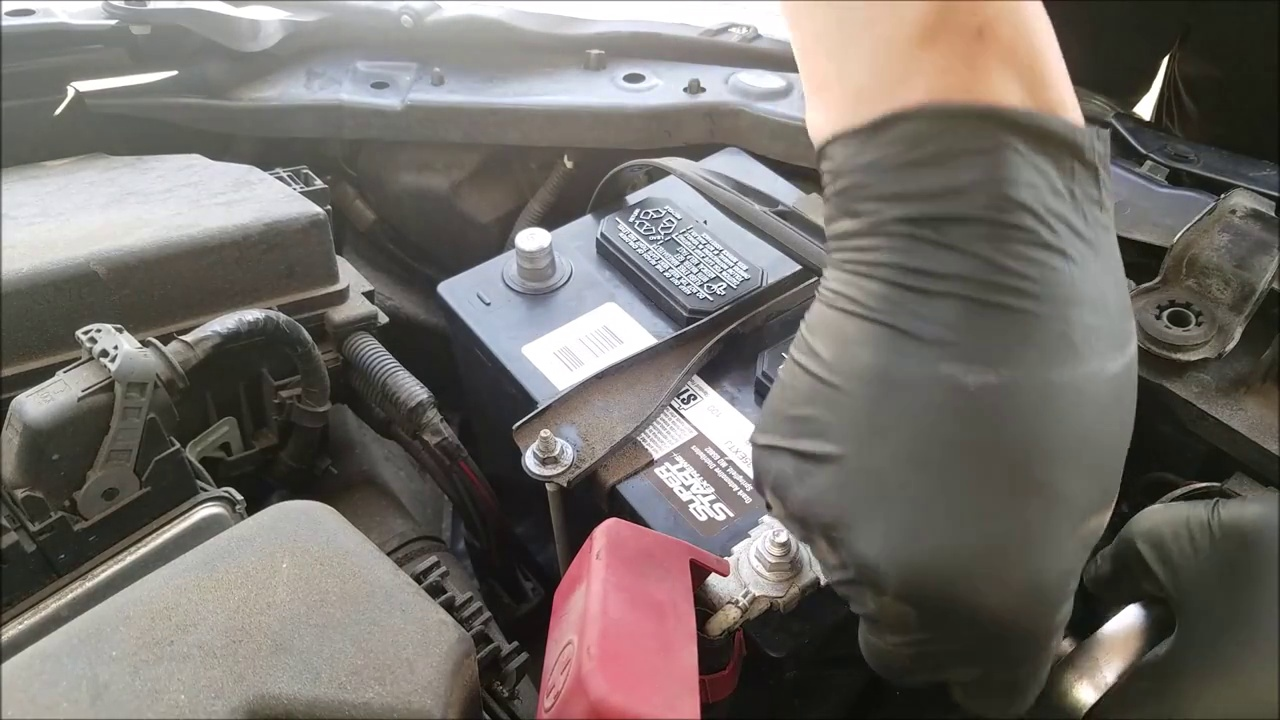battery: (451, 142, 868, 630)
neg_disconnected: (481, 186, 600, 341)
pos_connected: (548, 481, 838, 693)
pos_touched: (572, 396, 1184, 720)
